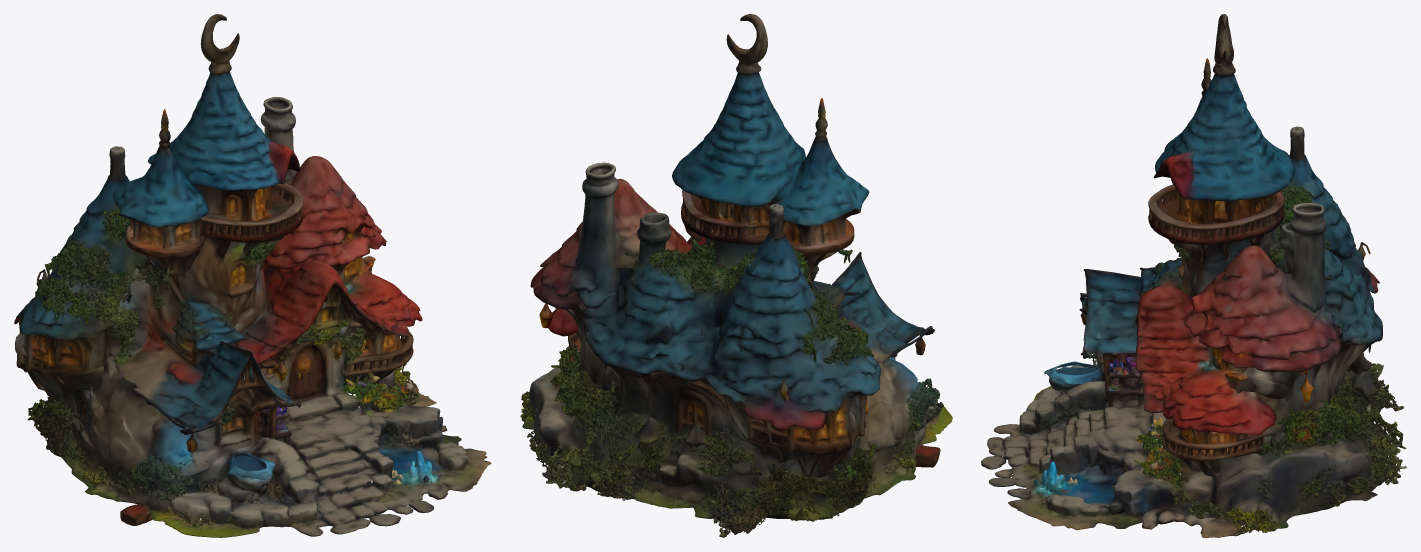
Rendered from ComfyUI_00004.glb.
3 renders of one model, left to right at view 1: azimuth 30°, elevation 25°; view 2: azimuth 150°, elevation 25°; view 3: azimuth 270°, elevation 25°, orthographic. The views are drawn at different scales.
Bounding box in the file's own units: 0.8639 × 0.9982 × 0.8841.
